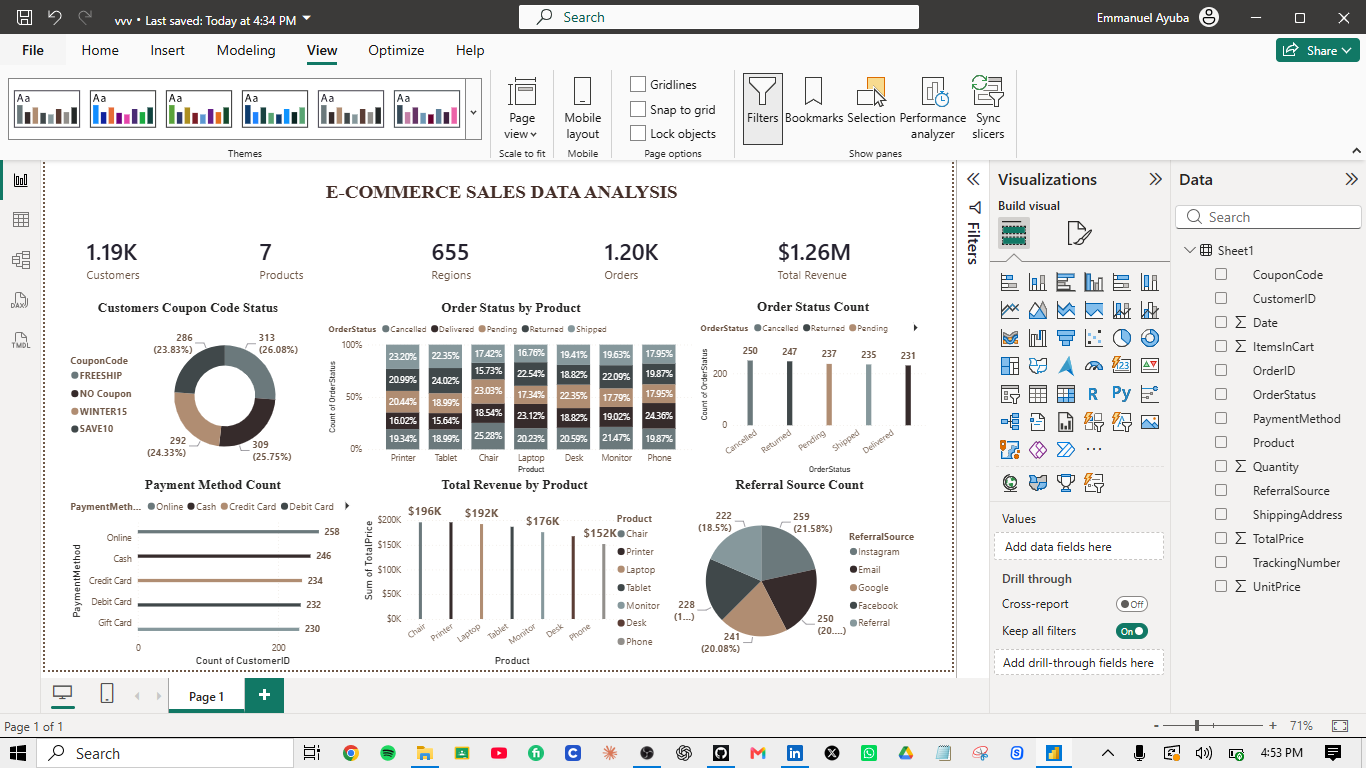

This screenshot's page, from the dashboard's own definition file:
{"tool":"powerbi","page":{"name":"Page 1","canvas":[1280,720],"ordinal":0},"visuals":[{"type":"textbox","box":[10.1,23.5,1269.9,57.1],"z":0},{"type":"cardVisual","title":"Customers","fields":{"Data":["Count(Sheet1.CustomerID)"]},"box":[30.2,80.6,243.6,115.9],"z":1000},{"type":"cardVisual","title":"Customers","fields":{"Data":["Count(Sheet1.Product)"]},"box":[273.8,80.6,243.6,115.9],"z":2000},{"type":"cardVisual","title":"Customers","fields":{"Data":["Count(Sheet1.ShippingAddress)"]},"box":[517.4,80.6,243.6,115.9],"z":3000},{"type":"cardVisual","title":"Customers","fields":{"Data":["CountNonNull(Sheet1.OrderStatus)"]},"box":[760.9,80.6,243.6,115.9],"z":4000},{"type":"cardVisual","title":"Customers","fields":{"Data":["Sum(Sheet1.TotalPrice)"]},"box":[1004.5,80.6,243.6,115.9],"z":5000},{"type":"pieChart","title":"Referral Source Count","fields":{"Category":["Sheet1.ReferralSource"],"Y":["CountNonNull(Sheet1.ReferralSource)"]},"box":[882.4,447.5,365.6,272.5],"z":6000},{"type":"clusteredColumnChart","title":"Order Status Count","fields":{"Category":["Sheet1.OrderStatus"],"Y":["CountNonNull(Sheet1.OrderStatus)"],"Series":["Sheet1.OrderStatus"]},"box":[920.5,196.2,327.5,251.3],"z":7000},{"type":"clusteredBarChart","title":"Payment Method Count","fields":{"Category":["Sheet1.PaymentMethod"],"Y":["CountNonNull(Sheet1.CustomerID)"],"Series":["Sheet1.PaymentMethod"]},"box":[31.1,447.5,412.2,272.5],"z":8000},{"type":"clusteredColumnChart","title":"Total Revenue by Product","fields":{"Category":["Sheet1.Product"],"Y":["Sum(Sheet1.TotalPrice)"],"Series":["Sheet1.Product"]},"box":[443.3,447.5,439.1,272.5],"z":9000},{"type":"donutChart","title":"Customers Coupon Code Status","fields":{"Category":["Sheet1.CouponCode"],"Y":["CountNonNull(Sheet1.CustomerID)"]},"box":[31.1,197.6,341.6,249.9],"z":10000},{"type":"hundredPercentStackedColumnChart","title":"Order Status by Product ","fields":{"Category":["Sheet1.Product"],"Y":["CountNonNull(Sheet1.OrderStatus)"],"Series":["Sheet1.OrderStatus"]},"box":[395.3,197.6,525.2,249.9],"z":11000}]}

Visuals, with their boxes on the page's 1280x720 design canvas (x1, y1, x2, y2). These are canvas units, not pixel positions in the 1366x768 screenshot, which may show the page scaled, cropped or inside an application window:
textbox: 10 24 1280 81
"Customers" cardVisual: 30 81 274 196
"Customers" cardVisual: 274 81 517 196
"Customers" cardVisual: 517 81 761 196
"Customers" cardVisual: 761 81 1004 196
"Customers" cardVisual: 1004 81 1248 196
"Referral Source Count" pieChart: 882 448 1248 720
"Order Status Count" clusteredColumnChart: 920 196 1248 448
"Payment Method Count" clusteredBarChart: 31 448 443 720
"Total Revenue by Product" clusteredColumnChart: 443 448 882 720
"Customers Coupon Code Status" donutChart: 31 198 373 448
"Order Status by Product " hundredPercentStackedColumnChart: 395 198 920 448
